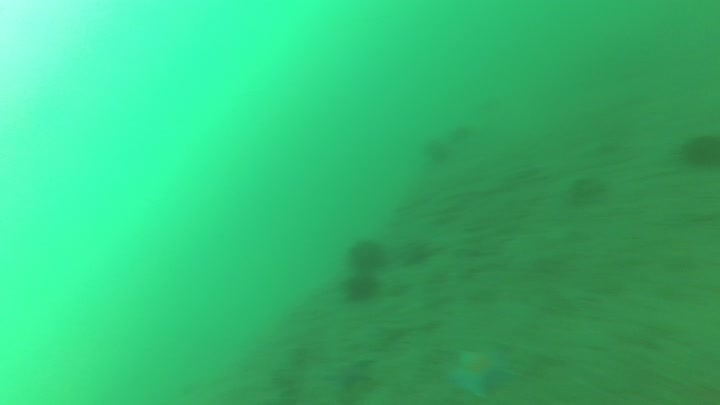echinus: (674, 131, 720, 172), (342, 239, 392, 273), (338, 272, 386, 302)
starfish: (446, 347, 524, 400), (314, 355, 380, 394)
